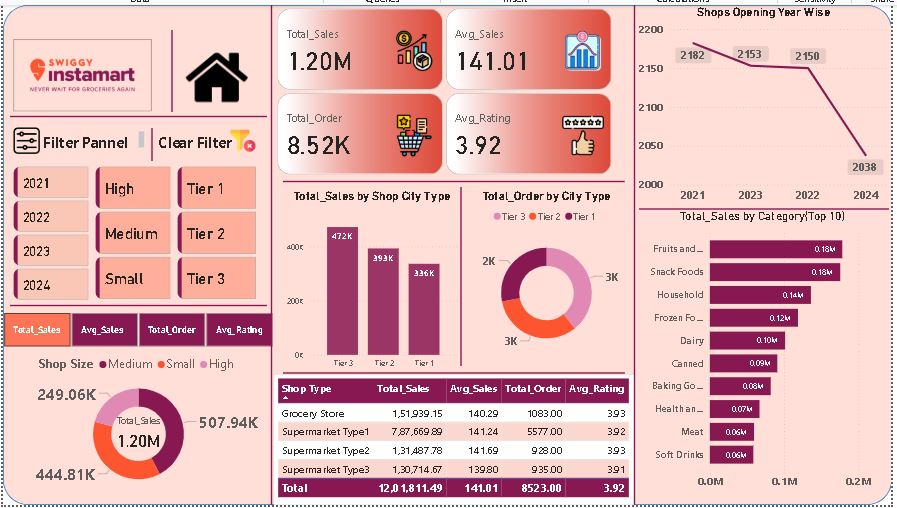

What the dashboard file says about the page in this screenshot:
{"tool":"powerbi","page":{"name":"Insta Mart Dashboard","canvas":[1280,720],"ordinal":0},"visuals":[{"type":"shape","box":[0,0,1280.2,720],"z":0},{"type":"image","box":[10.1,0,208.8,201.6],"z":1000},{"type":"cardVisual","fields":{"Data":["Grocery Shop.Total_Sales","Grocery Shop.Avg_Sales","Grocery Shop.Total_Order","Grocery Shop.Avg_Rating"]},"box":[390.2,0,492.5,249.1],"z":2000},{"type":"image","box":[256.3,54.7,103.7,99.4],"z":3000},{"type":"advancedSlicerVisual","fields":{"Values":["Matrix.Matrix"]},"box":[0,443,390.2,49],"z":4000},{"type":"donutChart","fields":{"Y":["Grocery Shop.Total_Sales"],"Category":["Grocery Shop.Shop Size"]},"box":[0,495.4,390.2,211.7],"z":5000},{"type":"cardVisual","fields":{"Data":["Grocery Shop.Total_Sales"]},"box":[106.6,553,177.1,125.3],"z":6000},{"type":"clusteredColumnChart","fields":{"Category":["Grocery Shop.Shop City Type"],"Y":["Grocery Shop.Total_Sales"]},"box":[403.2,265,256.3,267.8],"z":7000},{"type":"donutChart","title":"Total_Order by City Type","fields":{"Category":["Grocery Shop.Shop City Type"],"Y":["Grocery Shop.Total_Order"]},"box":[669.6,265,226.1,252],"z":8000},{"type":"tableEx","fields":{"Values":["Grocery Shop.Shop Type","Grocery Shop.Total_Sales","Grocery Shop.Avg_Sales","Grocery Shop.Total_Order","Grocery Shop.Avg_Rating"]},"box":[390.2,532.8,519.8,187.2],"z":9000},{"type":"lineChart","title":"Shops Opening Year Wise","fields":{"Category":["Grocery Shop.Shop Opening Year"],"Y":["Grocery Shop.Total_Order"]},"box":[910.1,0,370.1,293.8],"z":10000},{"type":"clusteredBarChart","title":"Total_Sales by Category(Top 10)","fields":{"Y":["Grocery Shop.Total_Sales"],"Category":["Grocery Shop.Category"]},"box":[915.8,293.8,354.2,413.3],"z":11000},{"type":"advancedSlicerVisual","fields":{"Values":["Grocery Shop.Shop Opening Year"]},"box":[10.1,227.5,118.1,203],"z":12000},{"type":"advancedSlicerVisual","fields":{"Values":["Grocery Shop.Shop Size"]},"box":[128.2,227.5,118.1,203],"z":13000},{"type":"advancedSlicerVisual","fields":{"Values":["Grocery Shop.Shop City Type"]},"box":[246.2,227.5,123.8,203],"z":14000},{"type":"textbox","box":[53.3,177.1,149.8,36],"z":15000},{"type":"textbox","box":[218.9,177.1,126.7,36],"z":16000},{"type":"image","box":[10.1,171.4,47.5,47.5],"z":17000},{"type":"image","box":[322.6,171.4,46.1,47.5],"z":18000},{"type":"shape","box":[10.1,144,370.1,33.1],"z":19000},{"type":"shape","box":[10.1,421.9,370.1,21.6],"z":20000},{"type":"shape","box":[178.6,36,129.6,118.1],"z":21000},{"type":"shape","box":[403.2,223.2,492.5,61.9],"z":22000},{"type":"shape","box":[403.2,495.4,492.5,69.1],"z":23000},{"type":"shape","box":[915.8,259.2,360,69.1],"z":24000},{"type":"shape","box":[861.1,0,96.5,720],"z":25000},{"type":"shape","box":[380.2,0,13,720],"z":26000},{"type":"shape","box":[626.4,262.1,66.2,257.8],"z":27000},{"type":"shape","box":[203,177.1,23,47.5],"z":28000}]}

Visuals, with their boxes in screenshot pixels (x1, y1, x2, y2), scaled from the page's 1280x720 canvas onto the 897x508 screenshot:
shape: <box>0,0,896,507</box>
image: <box>7,0,153,142</box>
cardVisual - Grocery Shop.Total_Sales x Grocery Shop.Avg_Sales: <box>273,0,619,176</box>
image: <box>180,39,252,109</box>
advancedSlicerVisual - Matrix.Matrix: <box>0,313,273,347</box>
donutChart - Grocery Shop.Total_Sales x Grocery Shop.Shop Size: <box>0,350,273,499</box>
cardVisual - Grocery Shop.Total_Sales: <box>75,390,199,479</box>
clusteredColumnChart - Grocery Shop.Shop City Type x Grocery Shop.Total_Sales: <box>283,187,462,376</box>
"Total_Order by City Type" donutChart: <box>469,187,628,365</box>
tableEx - Grocery Shop.Shop Type x Grocery Shop.Total_Sales: <box>273,376,638,507</box>
"Shops Opening Year Wise" lineChart: <box>638,0,896,207</box>
"Total_Sales by Category(Top 10)" clusteredBarChart: <box>642,207,890,499</box>
advancedSlicerVisual - Grocery Shop.Shop Opening Year: <box>7,161,90,304</box>
advancedSlicerVisual - Grocery Shop.Shop Size: <box>90,161,173,304</box>
advancedSlicerVisual - Grocery Shop.Shop City Type: <box>173,161,259,304</box>
textbox: <box>37,125,142,150</box>
textbox: <box>153,125,242,150</box>
image: <box>7,121,40,154</box>
image: <box>226,121,258,154</box>
shape: <box>7,102,266,125</box>
shape: <box>7,298,266,313</box>
shape: <box>125,25,216,109</box>
shape: <box>283,157,628,201</box>
shape: <box>283,350,628,398</box>
shape: <box>642,183,894,232</box>
shape: <box>603,0,671,507</box>
shape: <box>266,0,276,507</box>
shape: <box>439,185,485,367</box>
shape: <box>142,125,158,158</box>
